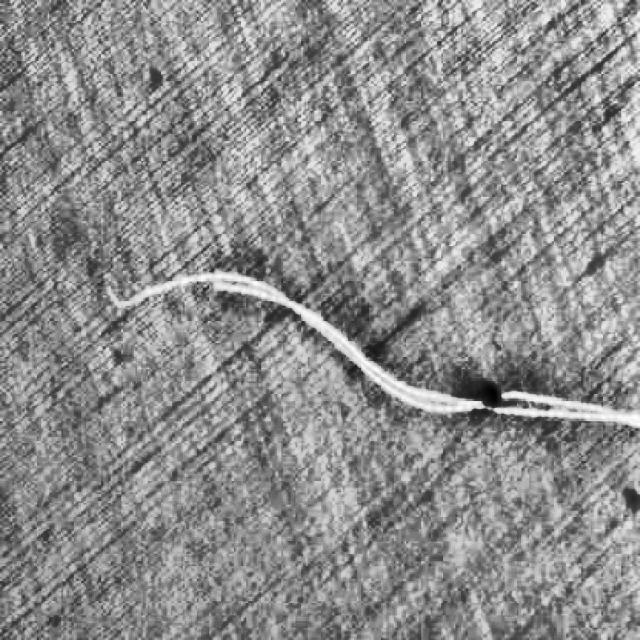objects: (89, 251, 639, 436)
